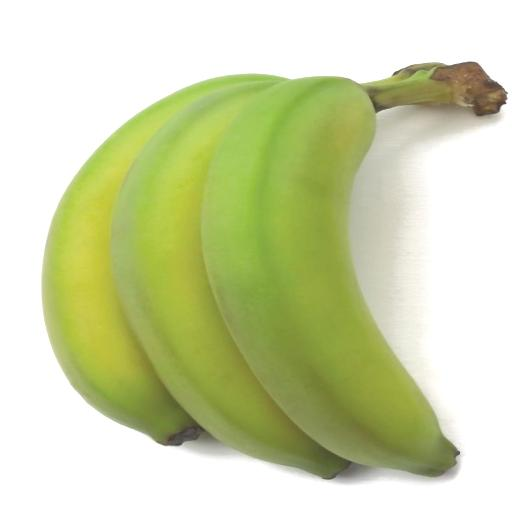banana-unripe: (24, 13, 512, 496)
